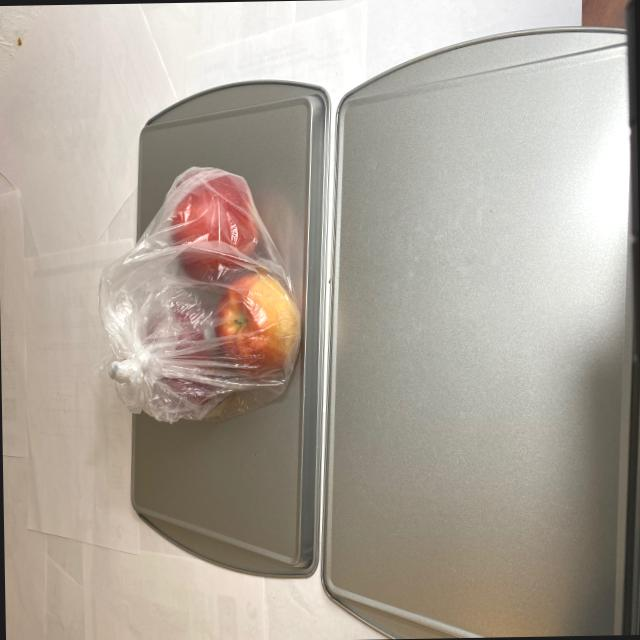apple: (138, 159, 300, 412)
